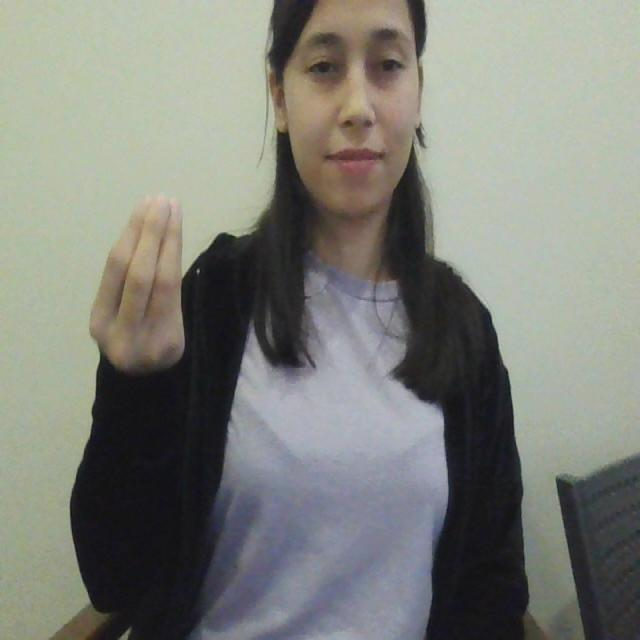iyi: (86, 186, 190, 379)
